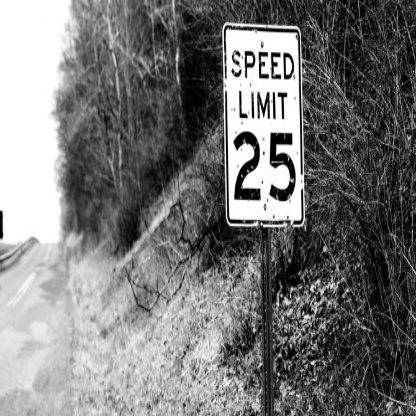limit1: (219, 21, 309, 229)
